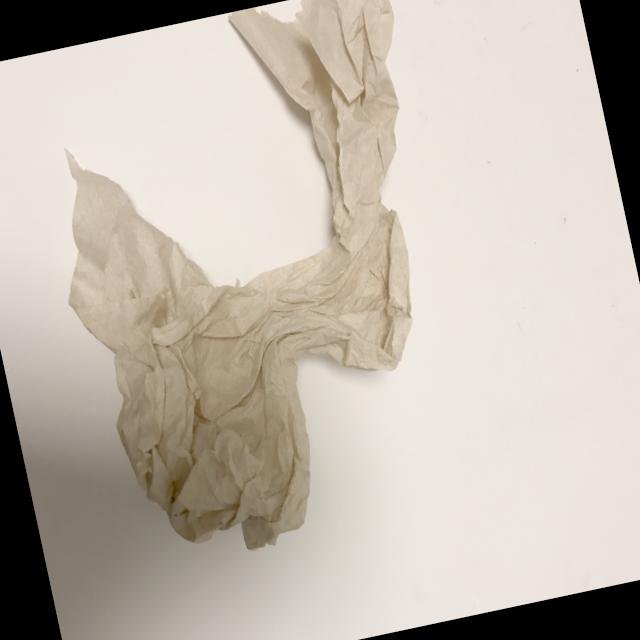Paper: (0, 0, 510, 598)
